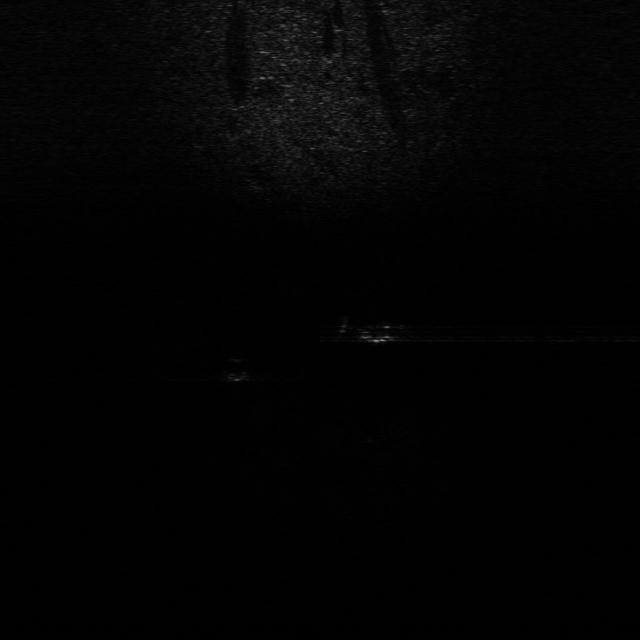ball: (220, 353, 258, 386)
human body: (327, 313, 412, 349)
